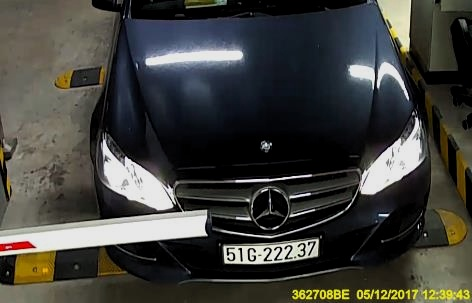plate: (218, 233, 325, 269)
